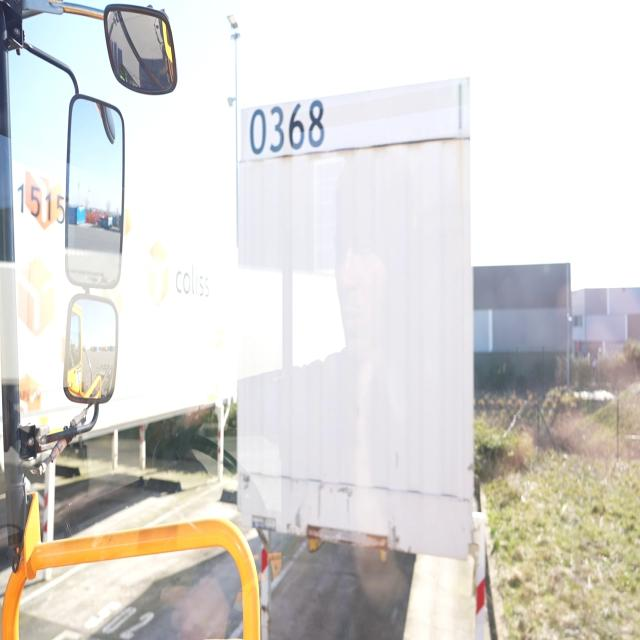Code: (245, 97, 328, 162), (16, 178, 68, 232)
